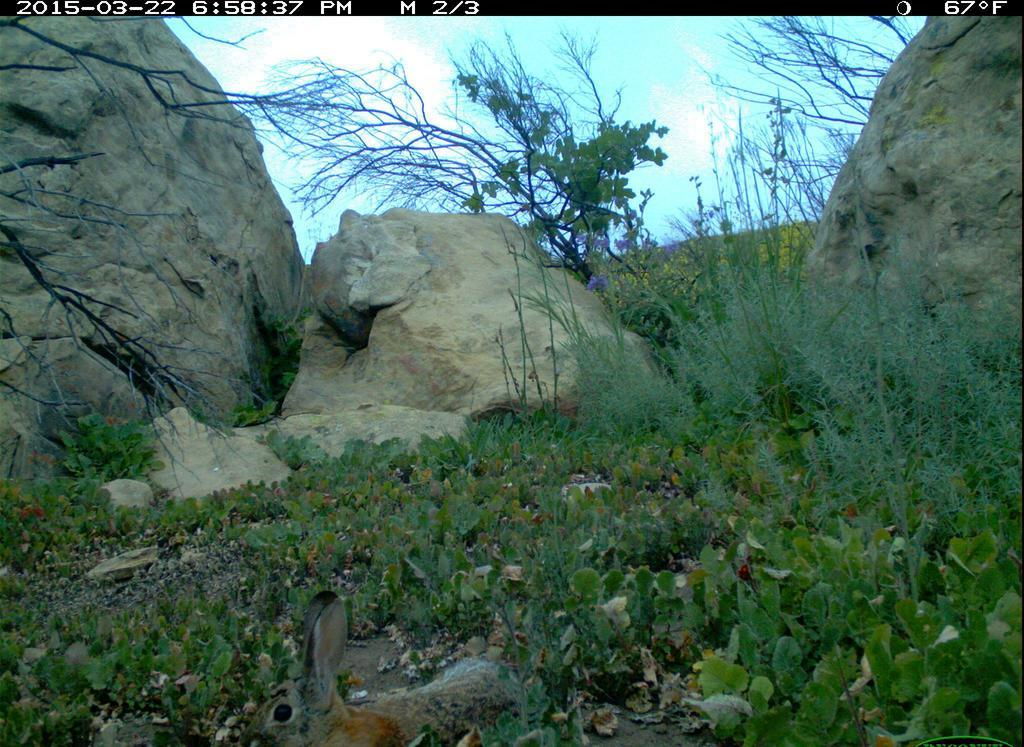rabbit: (246, 587, 543, 747)
